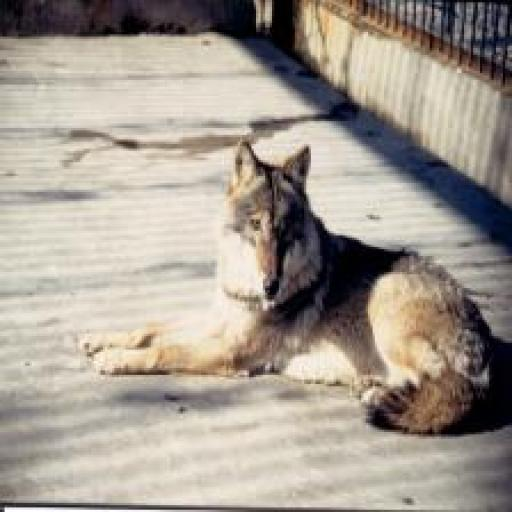wolf: (71, 137, 512, 503)
